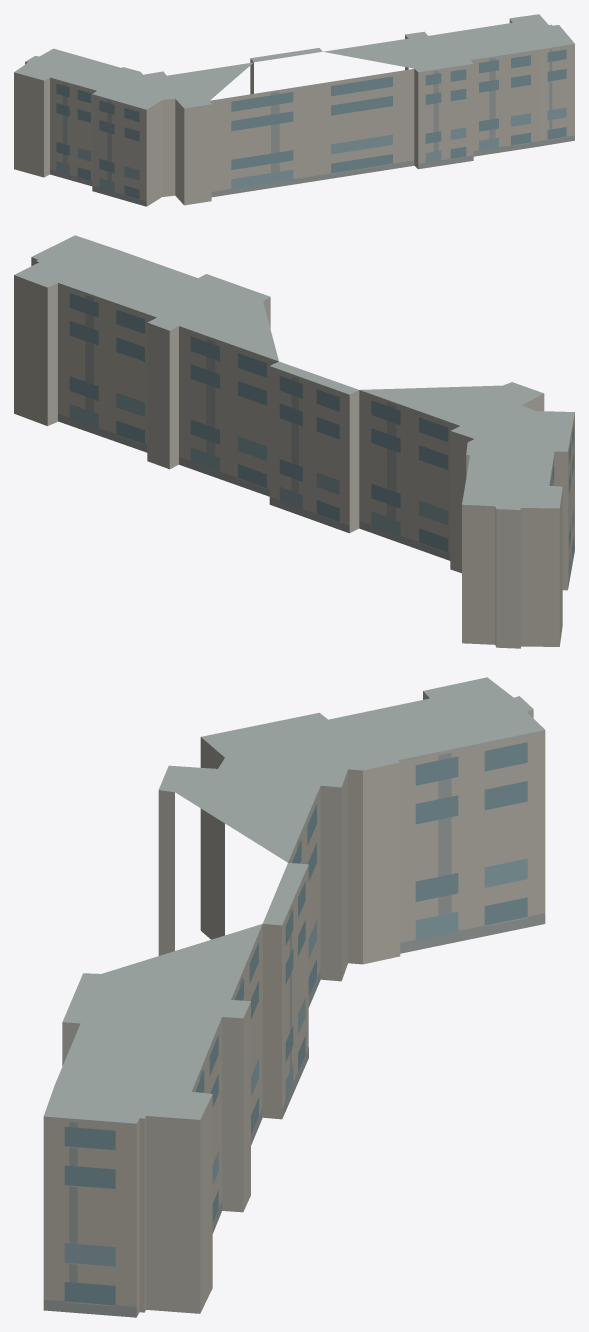
Rendered from survey-upis-32980641.glb.
3 renders of one model, top to bottom at view 1: azimuth 30°, elevation 25°; view 2: azimuth 150°, elevation 25°; view 3: azimuth 270°, elevation 25°, orthographic. The views are drawn at different scales.
Visible parts, largest first — view 1: survey-upis-32980641.tmp; view 2: survey-upis-32980641.tmp; view 3: survey-upis-32980641.tmp.
Part boxes in pixels (bbox=[...]): survey-upis-32980641.tmp: bbox=[14, 14, 574, 206]; survey-upis-32980641.tmp: bbox=[14, 235, 574, 648]; survey-upis-32980641.tmp: bbox=[43, 677, 545, 1317].
Bounding box in the file's own units: 68.62 × 13.9 × 32.61.
